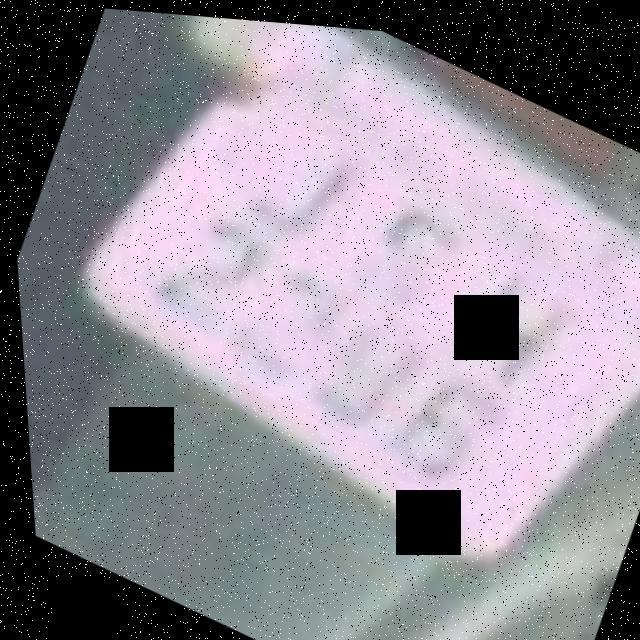2: (201, 224, 363, 407), (121, 173, 280, 346)
5: (205, 221, 365, 404), (276, 274, 437, 454)
6: (358, 336, 515, 508)
J: (217, 88, 379, 257)
N: (421, 223, 588, 409)
